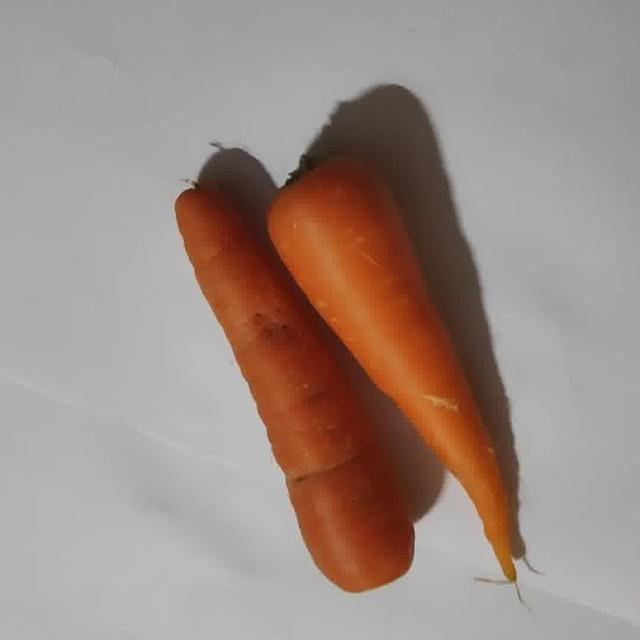Carrot: (270, 164, 515, 578), (176, 189, 414, 592)
